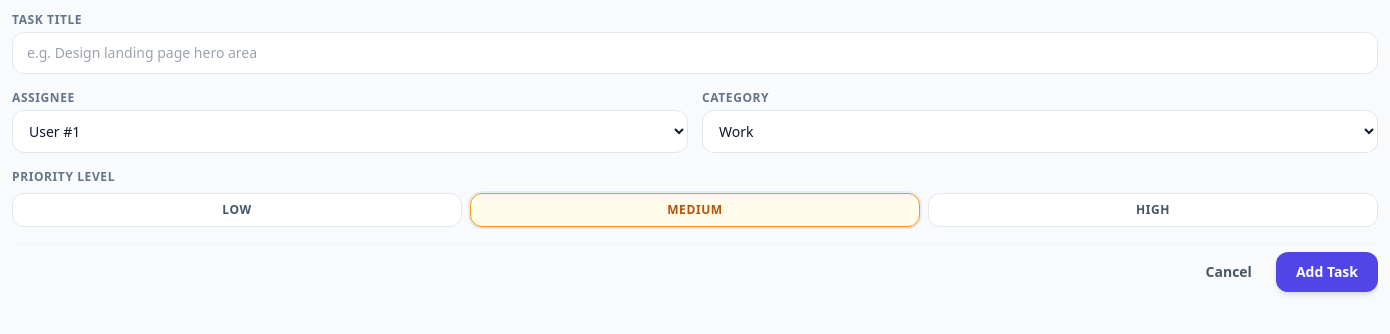
Test: TaskForm › shows a required error when submitted empty
Click the button "Add Task" at (1327, 272), box [1276,252,1378,292]
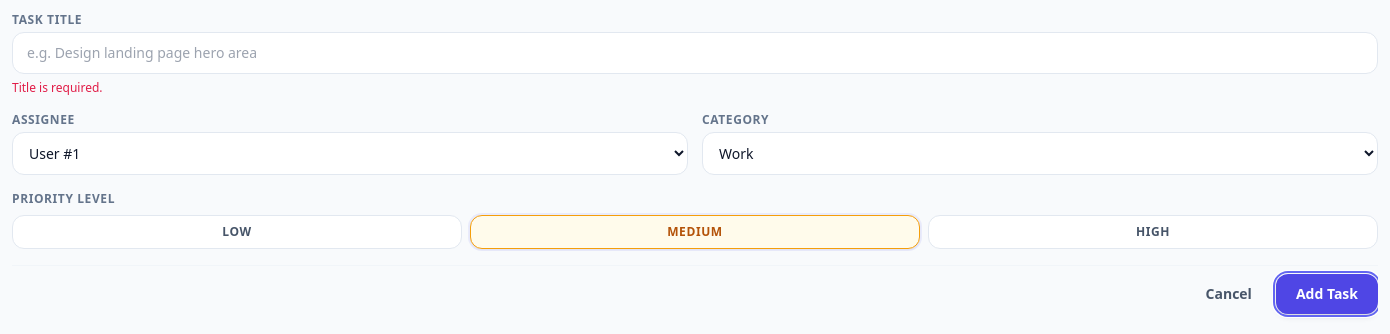
Now the text "Title is required." is shown, box [12,79,102,96]
